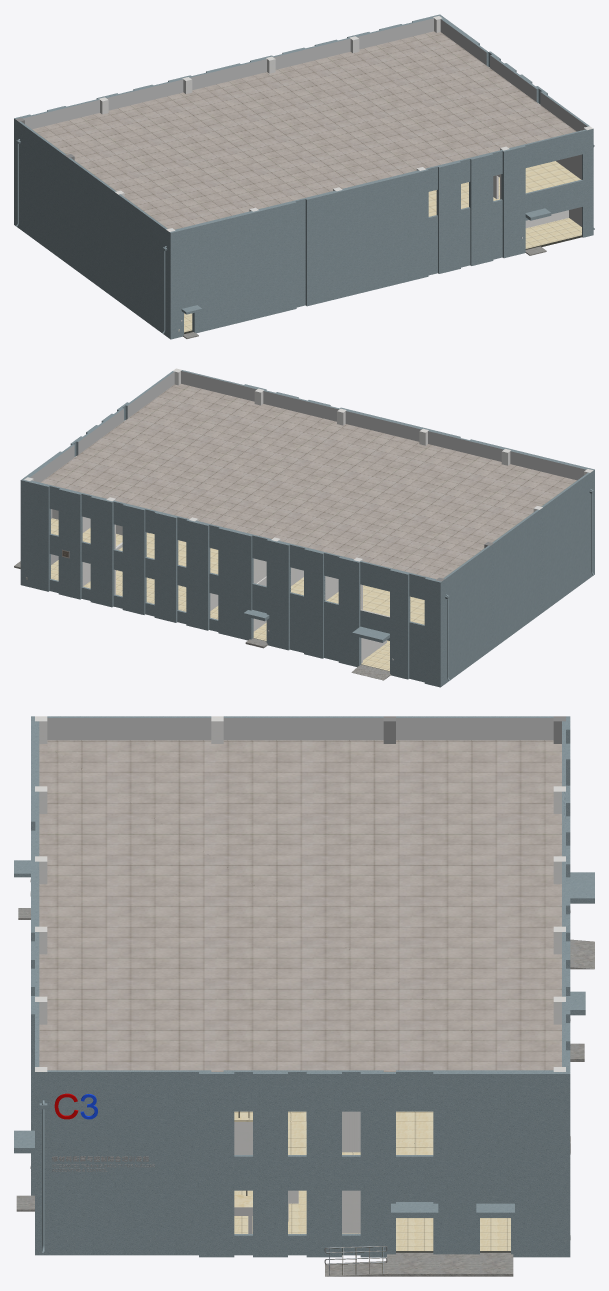
The model's file is C3_HeCaiLiaoHengSuan.FBX.
3 renders of one model, top to bottom at view 1: azimuth 30°, elevation 25°; view 2: azimuth 150°, elevation 25°; view 3: azimuth 270°, elevation 25°, orthographic. The views are drawn at different scales.
Parts seen in each view (by area): view 1: C3_HeCaiLiaoHengSuan15, C3_HeCaiLiaoHengSuan62, C3_HeCaiLiaoHengSuan63, C3_HeCaiLiaoHengSuan27, C3_HeCaiLiaoHengSuan21, C3_HeCaiLiaoHengSuan16, C3_HeCaiLiaoHengSuan17, C3_HeCaiLiaoHengSuan19; view 2: C3_HeCaiLiaoHengSuan15, C3_HeCaiLiaoHengSuan62, C3_HeCaiLiaoHengSuan63, C3_HeCaiLiaoHengSuan27, C3_HeCaiLiaoHengSuan02, C3_HeCaiLiaoHengSuan25, C3_HeCaiLiaoHengSuan17, C3_HeCaiLiaoHengSuan28, C3_HeCaiLiaoHengSuan16; view 3: C3_HeCaiLiaoHengSuan62, C3_HeCaiLiaoHengSuan15, C3_HeCaiLiaoHengSuan38, C3_HeCaiLiaoHengSuan27, C3_HeCaiLiaoHengSuan63, C3_HeCaiLiaoHengSuan21, C3_HeCaiLiaoHengSuan25, C3_HeCaiLiaoHengSuan02, C3_HeCaiLiaoHengSuan35.
Part boxes in pixels (x1=…): C3_HeCaiLiaoHengSuan15: x1=14, y1=14, x2=589, y2=339; C3_HeCaiLiaoHengSuan62: x1=32, y1=31, x2=576, y2=229; C3_HeCaiLiaoHengSuan63: x1=428, y1=161, x2=580, y2=216; C3_HeCaiLiaoHengSuan27: x1=184, y1=218, x2=582, y2=333; C3_HeCaiLiaoHengSuan21: x1=583, y1=126, x2=593, y2=236; C3_HeCaiLiaoHengSuan16: x1=64, y1=154, x2=74, y2=264; C3_HeCaiLiaoHengSuan17: x1=114, y1=190, x2=124, y2=300; C3_HeCaiLiaoHengSuan19: x1=166, y1=228, x2=175, y2=338; C3_HeCaiLiaoHengSuan15: x1=20, y1=370, x2=594, y2=687; C3_HeCaiLiaoHengSuan62: x1=41, y1=384, x2=576, y2=579; C3_HeCaiLiaoHengSuan63: x1=51, y1=518, x2=424, y2=624; C3_HeCaiLiaoHengSuan27: x1=51, y1=560, x2=389, y2=671; C3_HeCaiLiaoHengSuan02: x1=52, y1=509, x2=338, y2=600; C3_HeCaiLiaoHengSuan25: x1=82, y1=562, x2=386, y2=659; C3_HeCaiLiaoHengSuan17: x1=533, y1=506, x2=543, y2=614; C3_HeCaiLiaoHengSuan28: x1=436, y1=577, x2=445, y2=686; C3_HeCaiLiaoHengSuan16: x1=484, y1=542, x2=493, y2=650; C3_HeCaiLiaoHengSuan62: x1=39, y1=740, x2=561, y2=1071; C3_HeCaiLiaoHengSuan15: x1=14, y1=716, x2=594, y2=1257; C3_HeCaiLiaoHengSuan38: x1=325, y1=1252, x2=513, y2=1276; C3_HeCaiLiaoHengSuan27: x1=234, y1=1190, x2=510, y2=1252; C3_HeCaiLiaoHengSuan63: x1=234, y1=1111, x2=433, y2=1154; C3_HeCaiLiaoHengSuan21: x1=35, y1=1067, x2=47, y2=1255; C3_HeCaiLiaoHengSuan25: x1=234, y1=1122, x2=360, y2=1233; C3_HeCaiLiaoHengSuan02: x1=306, y1=1111, x2=360, y2=1152; C3_HeCaiLiaoHengSuan35: x1=570, y1=939, x2=594, y2=969.
Size of the model in its own units: 4339 by 975 by 2801.
